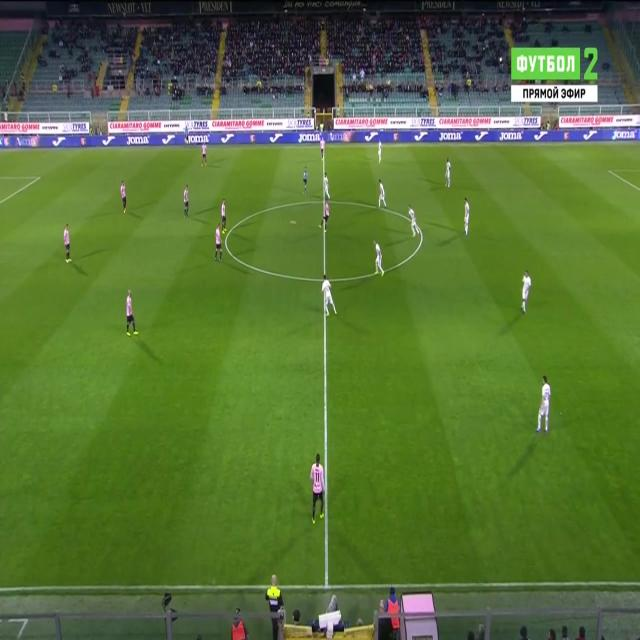Player: (534, 370, 553, 436), (309, 452, 326, 525), (319, 272, 338, 320), (124, 287, 139, 340), (373, 235, 387, 281), (407, 201, 420, 239), (522, 270, 532, 316), (118, 180, 130, 215), (318, 200, 331, 232), (215, 223, 224, 269), (182, 183, 192, 223), (63, 222, 72, 265), (377, 176, 388, 210), (463, 196, 471, 239), (444, 158, 453, 192), (220, 197, 227, 234), (323, 172, 331, 202), (376, 139, 384, 167), (200, 139, 207, 167), (318, 136, 326, 159)
Referee: (300, 164, 311, 198)
